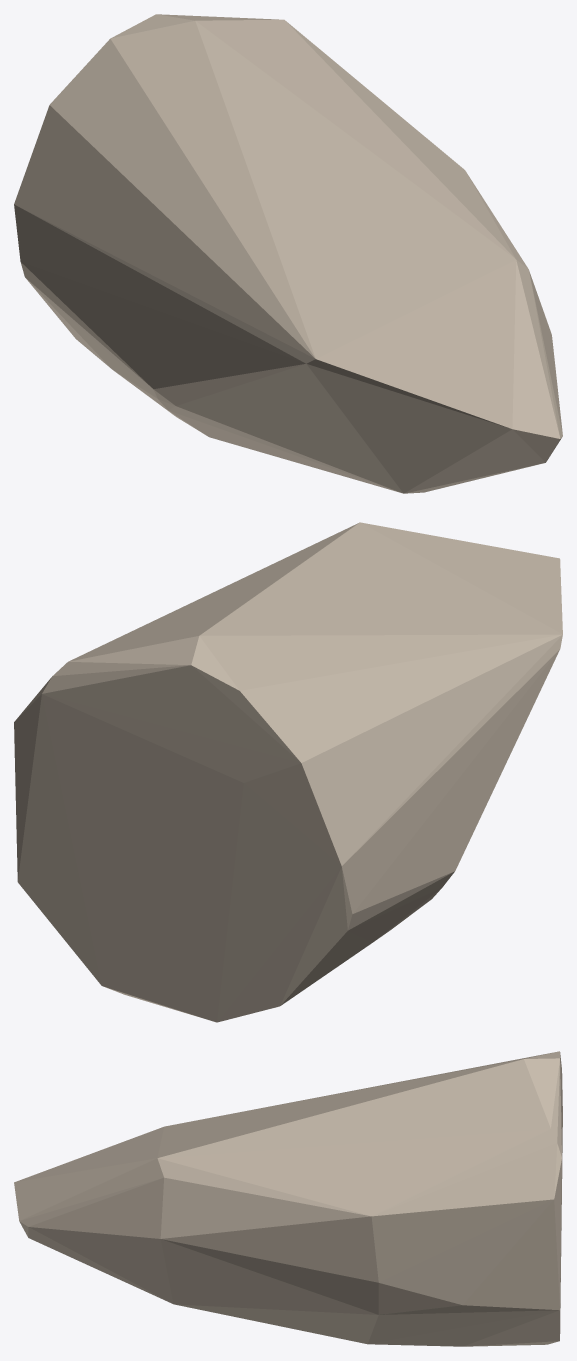
Rendered from paint_container_bottle_mint_a03.glb.
3 views of the same model, one above another, from view 1: azimuth 30°, elevation 25°; view 2: azimuth 150°, elevation 25°; view 3: azimuth 270°, elevation 25° (orthographic). The views are drawn at different scales.
Visible parts, largest first — view 1: geometry_0; view 2: geometry_0; view 3: geometry_0.
Boxes of the visible parts, x1,y1,x2,y2 form: geometry_0: [14, 14, 562, 493]; geometry_0: [14, 522, 562, 1022]; geometry_0: [14, 1051, 562, 1346].
Bounding box in the file's own units: 0.2586 × 0.2548 × 0.479.
